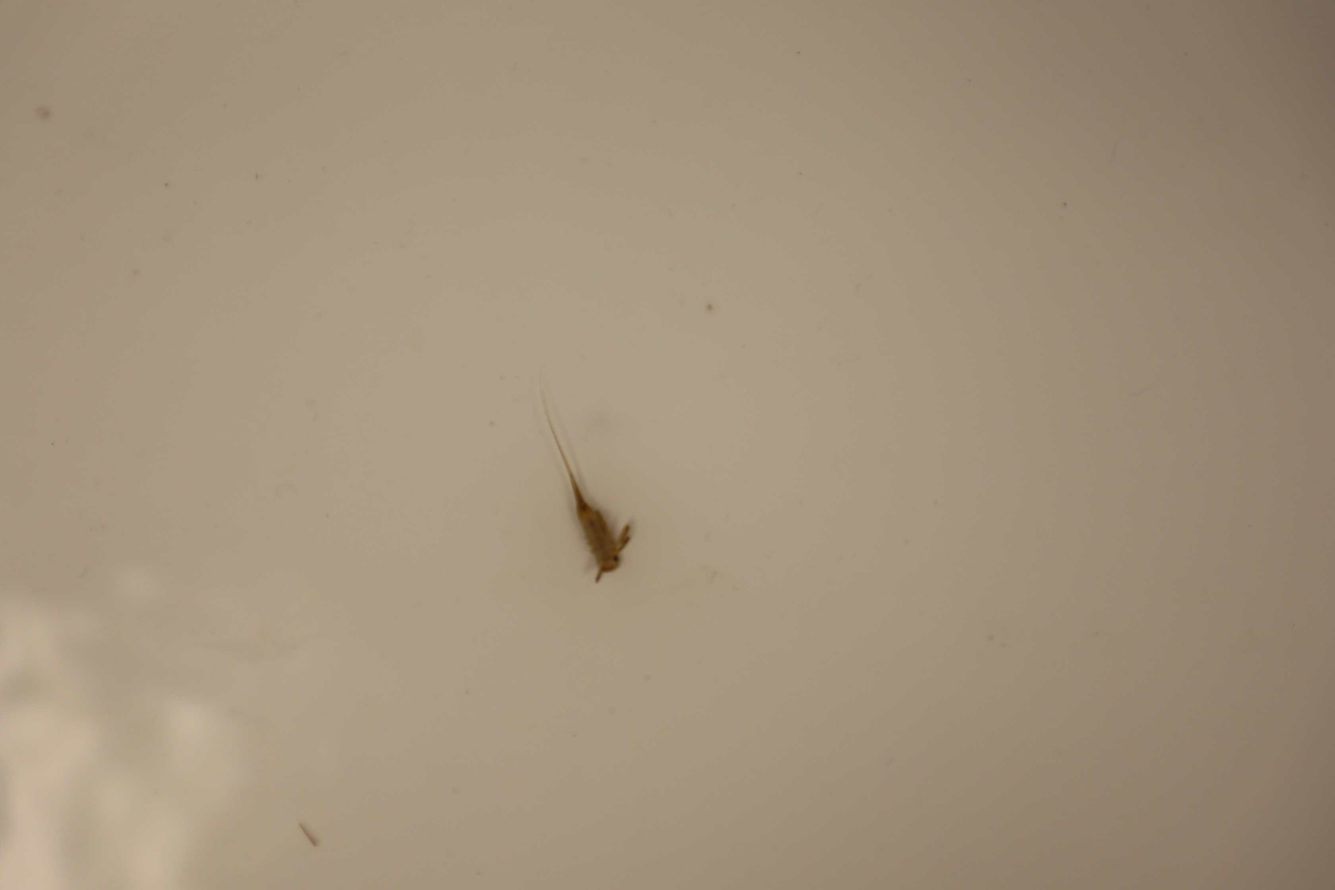Mayfly: (530, 391, 636, 587)
